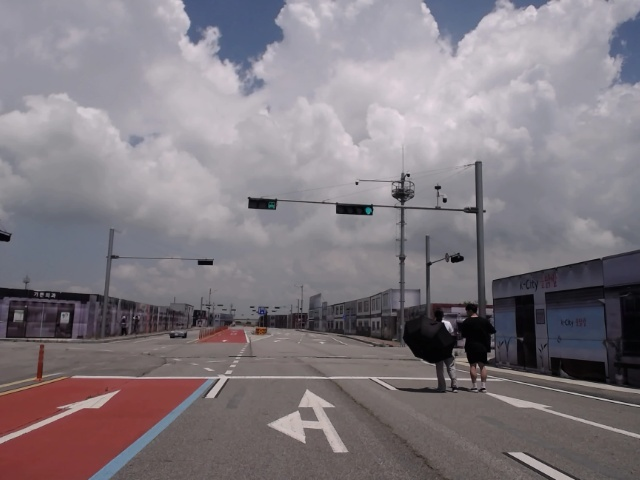straight_green_4: (335, 204, 374, 215)
